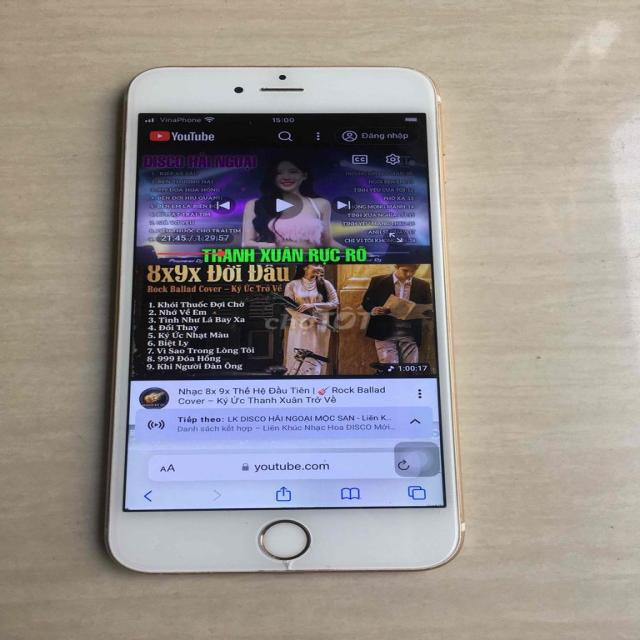gen_6: (108, 67, 463, 572)
